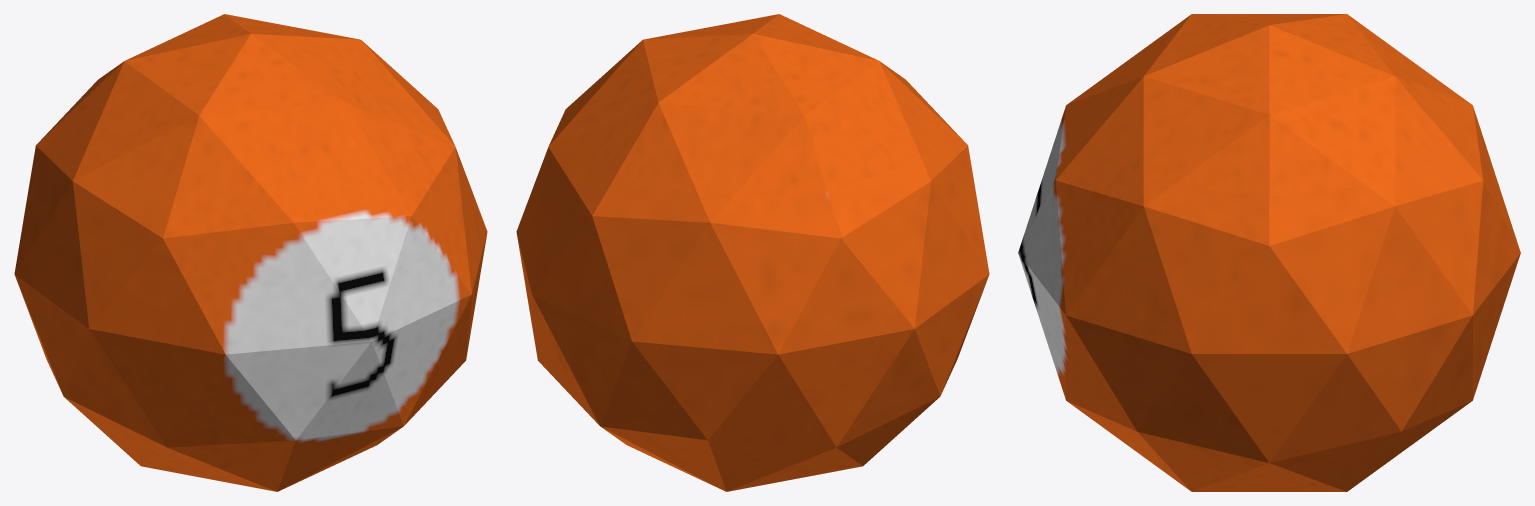
The model's file is pool_ball_5.obj.
3 renders of one model, left to right at view 1: azimuth 30°, elevation 25°; view 2: azimuth 150°, elevation 25°; view 3: azimuth 270°, elevation 25°, orthographic. The views are drawn at different scales.
Visible parts, largest first — view 1: PoolBall_05; view 2: PoolBall_05; view 3: PoolBall_05.
Part boxes in pixels (box(x1,y1,x2,y2)): PoolBall_05: box(14, 14, 487, 491); PoolBall_05: box(516, 14, 989, 491); PoolBall_05: box(1018, 14, 1520, 491).
Bounding box in the file's own units: 0.0709 × 0.0745 × 0.0745.
Materials: 1 (1 with a texture image).
